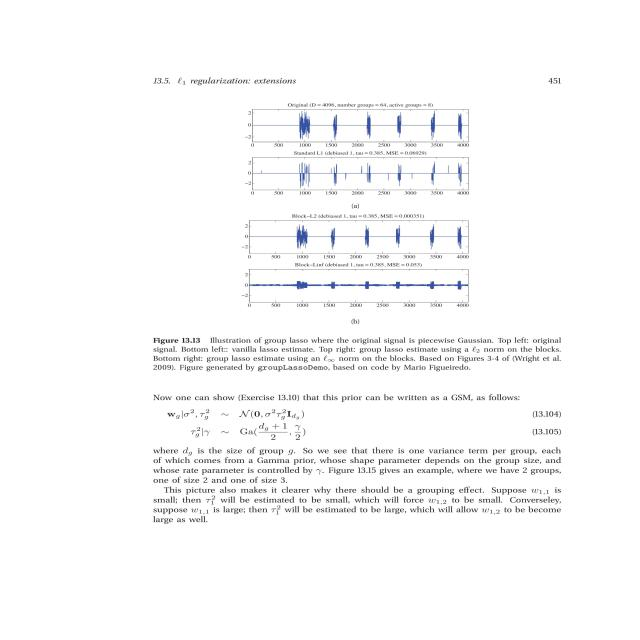diagram: (78, 94, 608, 375)
